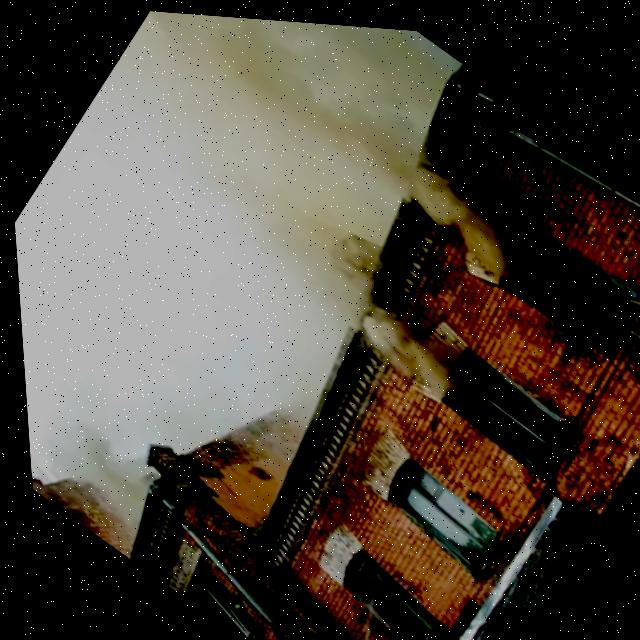Smoke: (233, 29, 572, 302), (192, 153, 507, 415), (20, 389, 171, 538)
